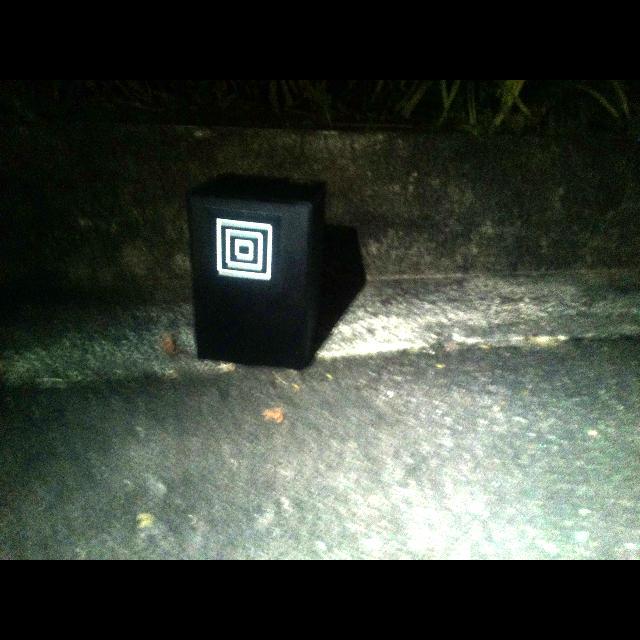BULLSEYE: (216, 218, 272, 280)
